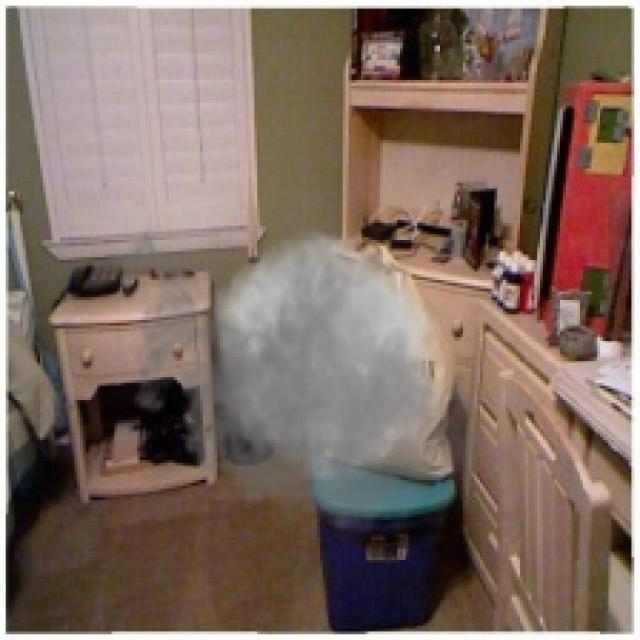Smoke: (108, 162, 494, 554)
